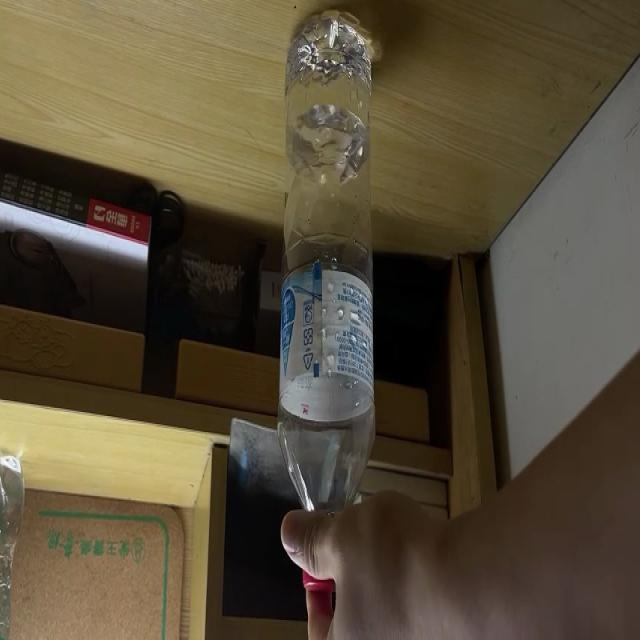Water: (279, 12, 377, 597)
